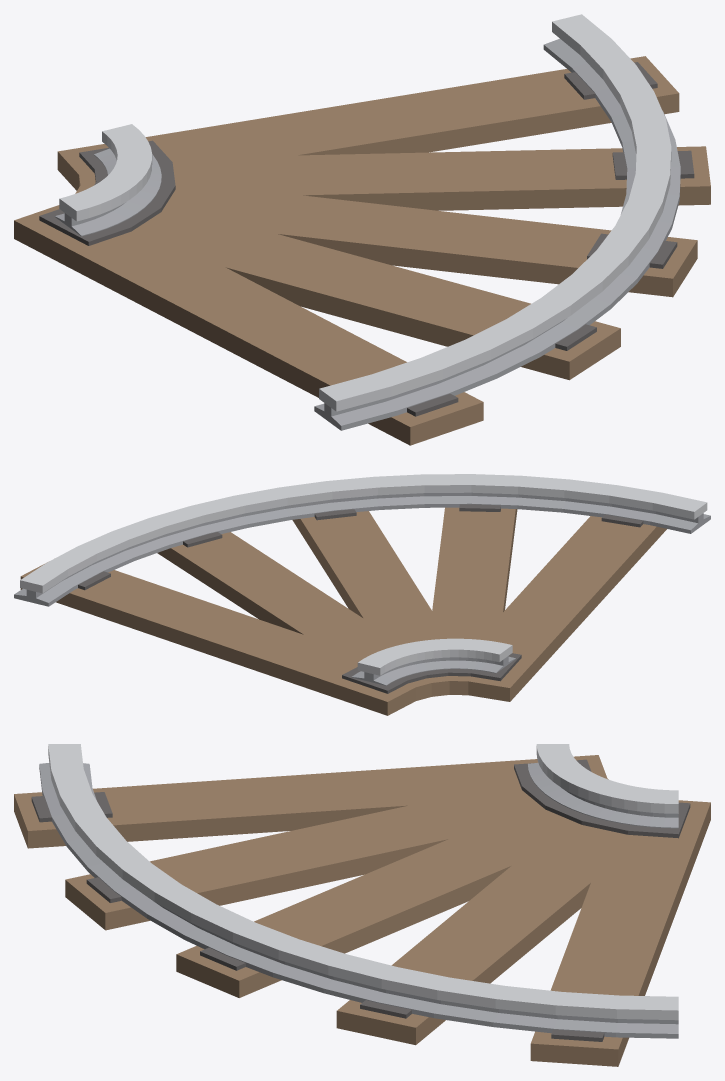
The model's file is rail_left.gltf.
3 views of the same model, one above another, from view 1: azimuth 30°, elevation 25°; view 2: azimuth 150°, elevation 25°; view 3: azimuth 270°, elevation 25° (orthographic). The views are drawn at different scales.
Visible parts, largest first — view 1: rail_left; view 2: rail_left; view 3: rail_left.
Part boxes in pixels (x1,y1,x2,y2): rail_left: (14, 14, 710, 445); rail_left: (14, 474, 710, 715); rail_left: (14, 744, 710, 1066).
Size of the model in its own units: 0.9419 by 0.0625 by 0.9419.
